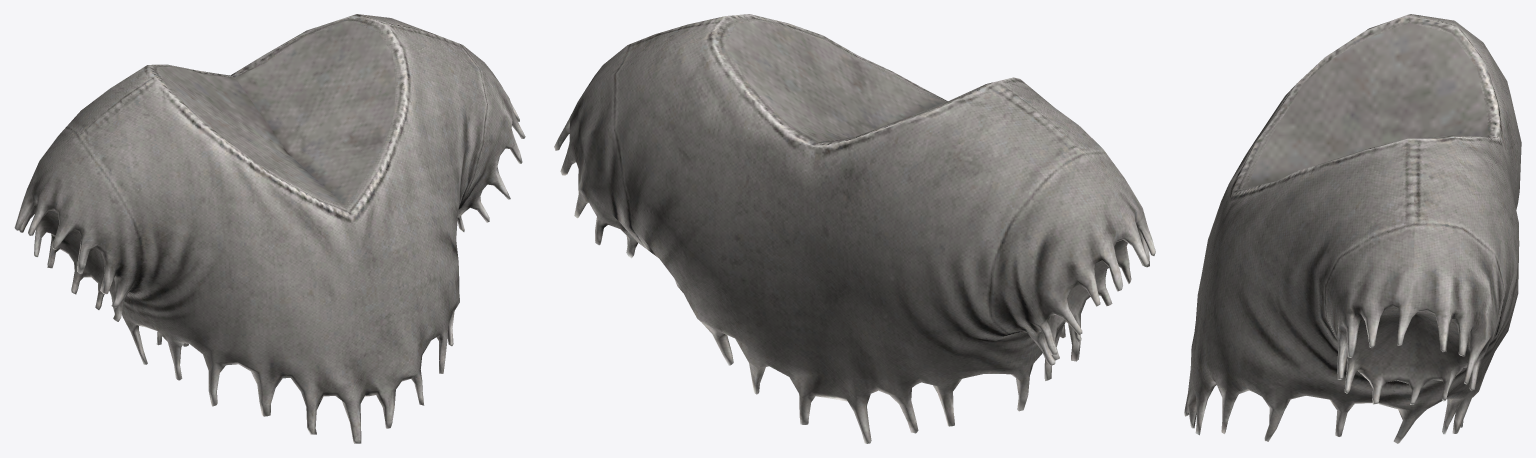
File: SurvivorMale_Chest_Shirt_HalfTop_LOD0.glb
3 views of the same model, side by side, from view 1: azimuth 30°, elevation 25°; view 2: azimuth 150°, elevation 25°; view 3: azimuth 270°, elevation 25° (orthographic). The views are drawn at different scales.
Parts seen in each view (by area): view 1: Hoodie; view 2: Hoodie; view 3: Hoodie.
Boxes of the visible parts, box(x1,y1,x2,y2) form: Hoodie: box(14, 14, 525, 443); Hoodie: box(554, 14, 1155, 443); Hoodie: box(1184, 14, 1521, 443).
Size of the model in its own units: 0.588 by 0.3622 by 0.32.
1 material, 1 textured.
